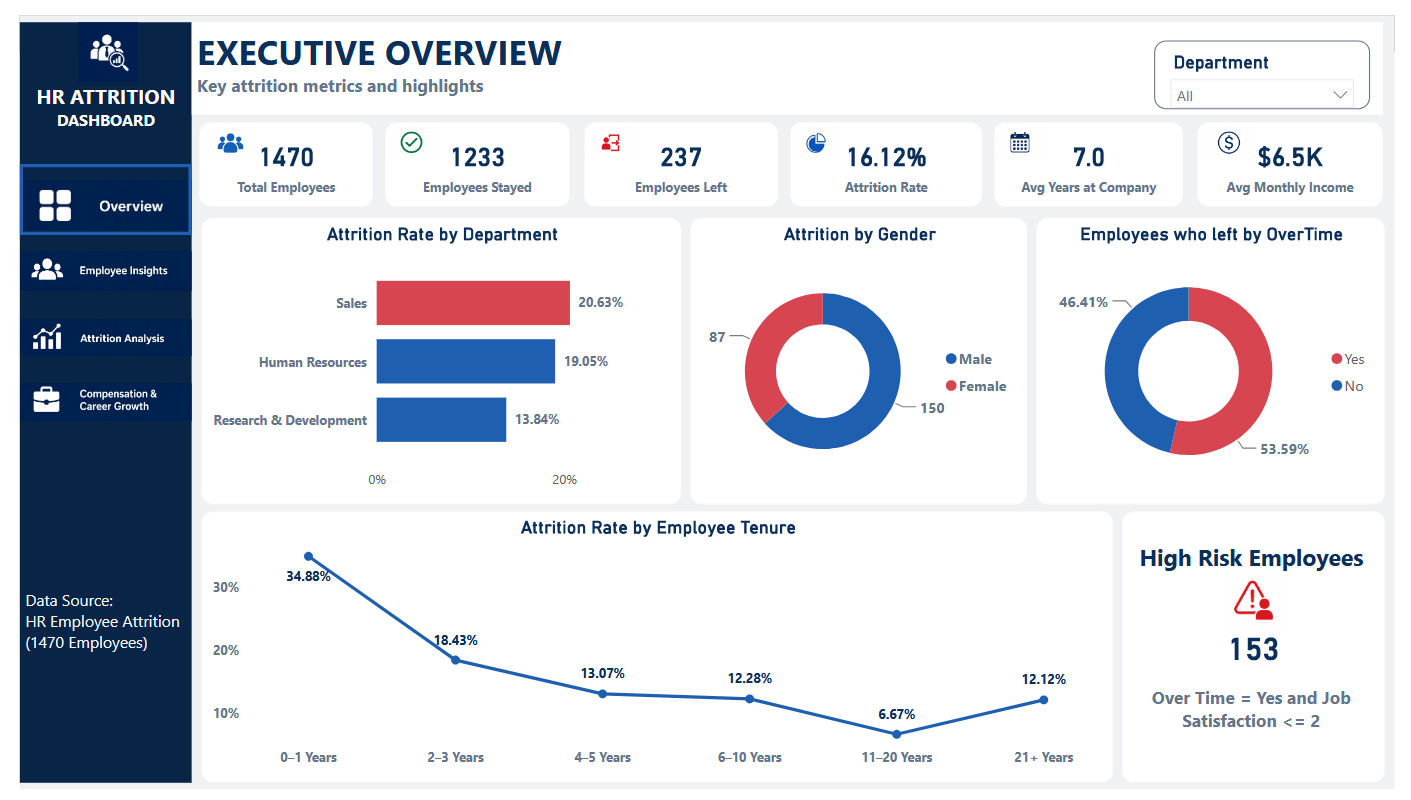

The dashboard page shown, as its layout file describes it:
{"tool":"powerbi","page":{"name":"Overview","canvas":[1280,720],"ordinal":0},"visuals":[{"type":"textbox","box":[0,6.5,160.3,707.6],"z":0},{"type":"textbox","box":[160.3,6.5,1109.2,85.8],"z":1000},{"type":"card","fields":{"Values":["HR Attrition.Total Employees"]},"box":[167,98.6,162.2,79.5],"z":2000},{"type":"card","fields":{"Values":["HR Attrition.Employees Stayed"]},"box":[340.4,98.6,171.8,79.5],"z":3000},{"type":"card","fields":{"Values":["HR Attrition.Employees Left"]},"box":[524.9,98.6,181.3,79.5],"z":4000},{"type":"card","fields":{"Values":["HR Attrition.Attrition Rate"]},"box":[717.4,98.6,178.1,79.5],"z":5000},{"type":"card","fields":{"Values":["HR Attrition.Avg Years at Company"]},"box":[906.6,98.6,176.6,79.5],"z":6000},{"type":"card","fields":{"Values":["HR Attrition.Avg Monthly Income"]},"box":[1095.9,98.6,173.4,79.5],"z":7000},{"type":"clusteredBarChart","title":"Attrition Rate by Department","fields":{"Y":["HR Attrition.Attrition Rate"],"Category":["HR Attrition.department"]},"box":[168.6,187.7,447,267.2],"z":8000},{"type":"donutChart","title":"Attrition by Gender","fields":{"Category":["HR Attrition.gender"],"Y":["HR Attrition.Employees Left"]},"box":[623.5,187.7,314.9,267.2],"z":9000},{"type":"donutChart","title":"Employees who left by OverTime","fields":{"Category":["HR Attrition.over_time"],"Y":["HR Attrition.Employees Left"]},"box":[946.4,187.7,324.5,267.2],"z":10000},{"type":"lineChart","title":"Attrition Rate by Employee Tenure","fields":{"Y":["HR Attrition.Attrition Rate"],"Category":["HR Attrition.Tenure Group"]},"box":[168.6,461.3,849.4,252.9],"z":11000},{"type":"card","fields":{"Values":["HR Attrition.High-Risk Employees"]},"box":[1025.9,461.3,245,252.9],"z":12000},{"type":"textbox","box":[1035.5,483.5,222.7,42.9],"z":13000},{"type":"textbox","box":[1035.5,618.7,222.7,63.6],"z":14000},{"type":"image","box":[173.3,98.8,45.3,38.9],"z":15000},{"type":"image","box":[341.7,98.8,45.3,38.9],"z":16000},{"type":"image","box":[527.9,98.8,45.3,38.9],"z":17000},{"type":"image","box":[718.9,98.8,45.3,38.9],"z":18000},{"type":"image","box":[908.4,98.8,45.3,38.9],"z":19000},{"type":"image","box":[1102.7,98.8,45.3,38.9],"z":20000},{"type":"image","box":[1083.3,516.5,127.9,55.1],"z":21000},{"type":"slicer","fields":{"Values":["HR Attrition.department"]},"box":[1055.7,22.7,200.8,64.8],"z":22000},{"type":"image","box":[0,187.8,160.3,98.8],"z":23000},{"type":"image","box":[0,260.7,160.3,77.7],"z":24000},{"type":"image","box":[0,320.6,160.3,77.7],"z":25000},{"type":"image","box":[0,137.6,160.3,77.7],"z":26000},{"type":"image","box":[14.6,6.5,134.4,55.1],"z":27000},{"type":"textbox","box":[0,527.9,160.3,103.6],"z":28000},{"type":"actionButton","box":[0,137.6,160.3,66.4],"z":29000}]}

Visuals, with their boxes in screenshot pixels (x1, y1, x2, y2), scaled from the page's 1280x720 canvas onto the 1411x800 screenshot:
textbox: region(0, 7, 177, 793)
textbox: region(177, 7, 1399, 103)
card - HR Attrition.Total Employees: region(184, 110, 363, 198)
card - HR Attrition.Employees Stayed: region(375, 110, 565, 198)
card - HR Attrition.Employees Left: region(579, 110, 778, 198)
card - HR Attrition.Attrition Rate: region(791, 110, 987, 198)
card - HR Attrition.Avg Years at Company: region(999, 110, 1194, 198)
card - HR Attrition.Avg Monthly Income: region(1208, 110, 1399, 198)
"Attrition Rate by Department" clusteredBarChart: region(186, 209, 679, 505)
"Attrition by Gender" donutChart: region(687, 209, 1034, 505)
"Employees who left by OverTime" donutChart: region(1043, 209, 1401, 505)
"Attrition Rate by Employee Tenure" lineChart: region(186, 513, 1122, 794)
card - HR Attrition.High-Risk Employees: region(1131, 513, 1401, 794)
textbox: region(1141, 537, 1387, 585)
textbox: region(1141, 687, 1387, 758)
image: region(191, 110, 241, 153)
image: region(377, 110, 427, 153)
image: region(582, 110, 632, 153)
image: region(792, 110, 842, 153)
image: region(1001, 110, 1051, 153)
image: region(1216, 110, 1265, 153)
image: region(1194, 574, 1335, 635)
slicer - HR Attrition.department: region(1164, 25, 1385, 97)
image: region(0, 209, 177, 318)
image: region(0, 290, 177, 376)
image: region(0, 356, 177, 443)
image: region(0, 153, 177, 239)
image: region(16, 7, 164, 68)
textbox: region(0, 587, 177, 702)
actionButton: region(0, 153, 177, 227)
